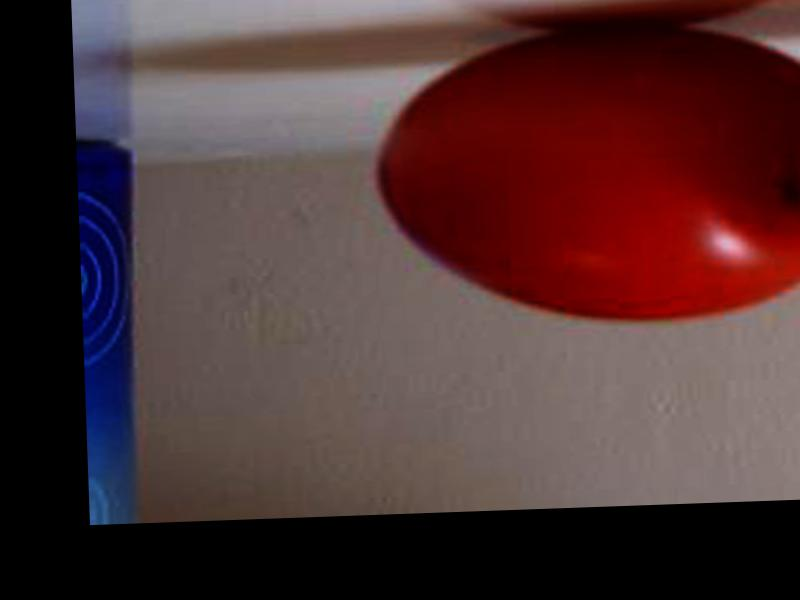Tomato: (376, 17, 800, 327)
